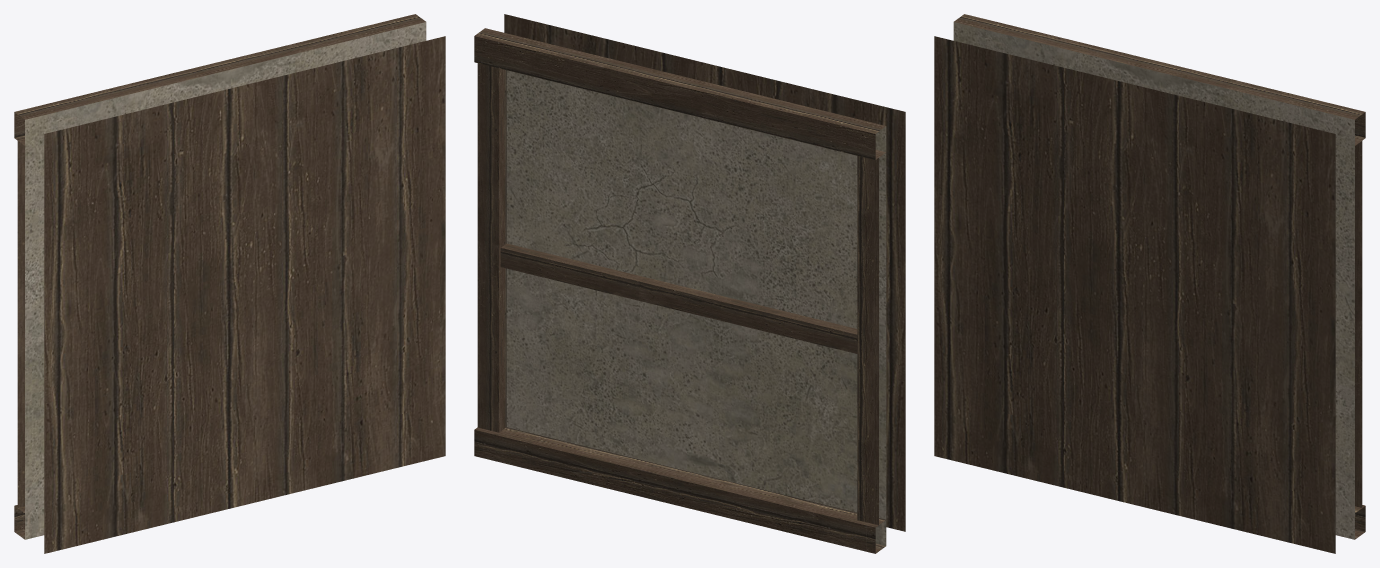
File: ARC1010247.fbx
3 views of the same model, side by side, from view 1: azimuth 30°, elevation 25°; view 2: azimuth 150°, elevation 25°; view 3: azimuth 330°, elevation 25° (orthographic).
Visible parts, largest first — view 1: smARC1010247; view 2: smARC1010247; view 3: smARC1010247.
Part boxes in pixels (x1,y1,x2,y2): smARC1010247: (14,14,445,553); smARC1010247: (474,14,905,553); smARC1010247: (934,14,1365,553).
Size of the model in its own units: 268 by 268 by 34.9.
1 material, 1 textured.
